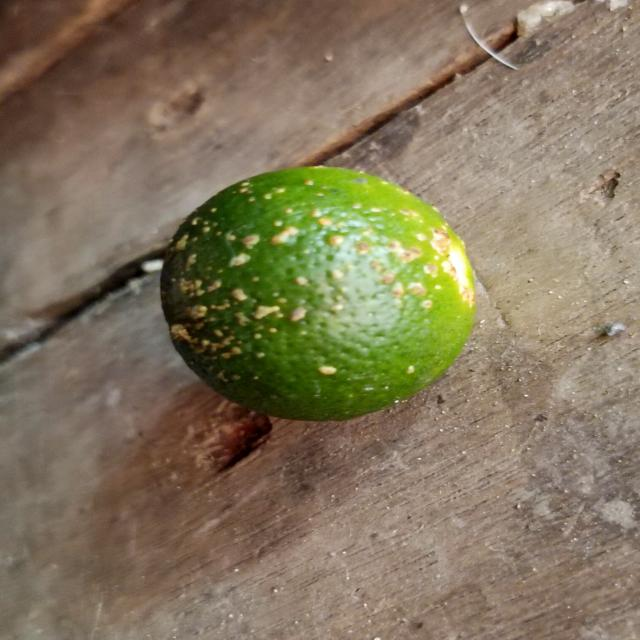scab: (152, 167, 492, 428)
